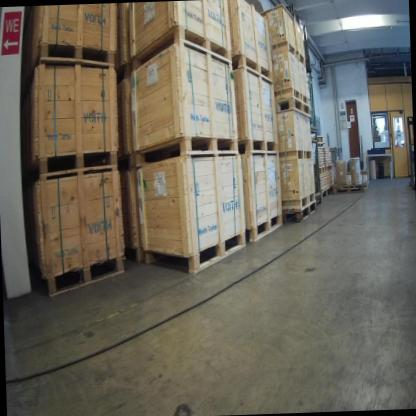pallet: (276, 93, 314, 121), (282, 202, 318, 227), (332, 180, 365, 197), (321, 185, 334, 200), (314, 134, 324, 145), (325, 163, 334, 174), (319, 165, 326, 177), (364, 180, 370, 189)
stillage: (275, 3, 314, 74), (311, 134, 324, 204), (304, 74, 317, 132), (330, 144, 341, 172), (337, 147, 344, 165)
